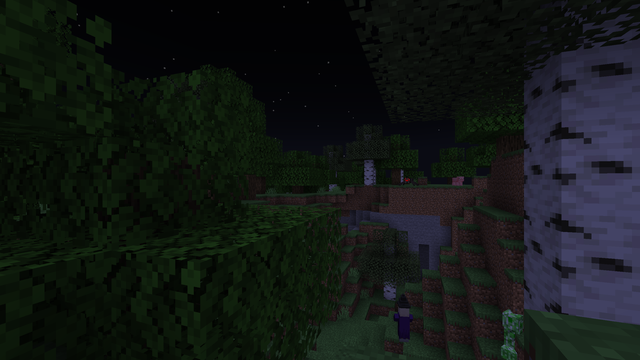araignees: (401, 177, 415, 185)
cochons: (452, 177, 462, 185)
creepers: (501, 306, 522, 359)
sorcieres: (397, 300, 409, 344)
